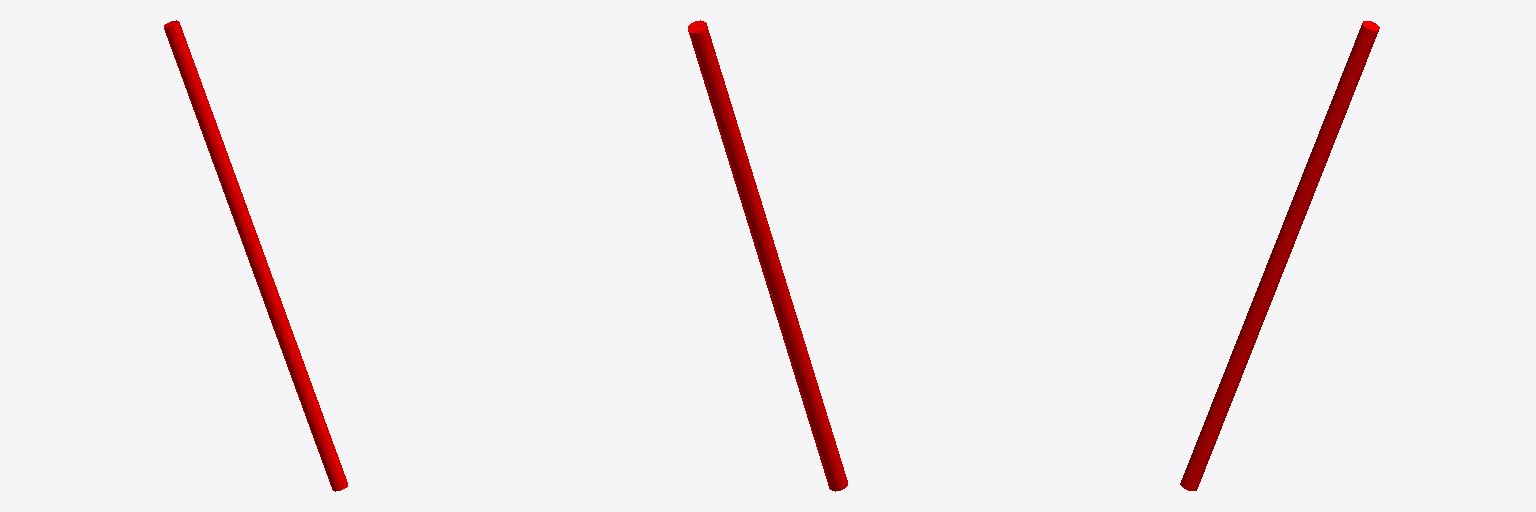
The robot description file, URDF, robot "tree_99.urdf":
<?xml version='1.0' encoding='utf-8'?>
<robot name="tree_99.urdf">
  <link name="branch_0">
    <inertial>
      <origin xyz="0.0 0.0 0.0" rpy="0.0 -0.0 0.0" />
      <mass value="1.0" />
      <inertia ixx="1.0" ixy="0.0" ixz="0.0" iyy="1.0" iyz="0.0" izz="1.0" />
    </inertial>
    <visual name="branch_0_visual">
      <geometry>
        <cylinder radius="0.04343572034439087" length="2.679896730458542" />
      </geometry>
      <material name="semantic_material" />
      <origin xyz="0.10800576997845723 0.4347268826389948 1.262857439556397" rpy="1.3877787807814457e-17 0.3408608271483758 1.3272816202017879" />
    </visual>
    <collision name="branch_0_collision">
      <geometry>
        <cylinder radius="0.04343572034439087" length="2.679896730458542" />
      </geometry>
      <origin xyz="0.10800576997845723 0.4347268826389948 1.262857439556397" rpy="1.3877787807814457e-17 0.3408608271483758 1.3272816202017879" />
    </collision>
  </link>
  <material name="semantic_material">
    <color rgba="1. 0. 0. 1." />
  </material>
</robot>

--- What the picture shows (computed from the rendered views, not written in the file) ---
The picture shows the robot from 3 angles, left to right: view 1: azimuth 90°, elevation 25°; view 2: azimuth 150°, elevation 25°; view 3: azimuth 270°, elevation 25°; orthographic projection.
Robot: tree_99.urdf — 1 links, 0 joints (none); root link branch_0; default pose: every joint at zero.
Visible links, largest first — view 1: branch_0; view 2: branch_0; view 3: branch_0.
Boxes of the visible links, x1,y1,x2,y2 form: branch_0: [164, 20, 347, 491]; branch_0: [688, 20, 847, 491]; branch_0: [1180, 21, 1379, 490].
Size in the robot's own frame: 0.3026 by 0.9515 by 2.55 metres.
Geometry: primitives only (box / cylinder / sphere), no mesh files.
